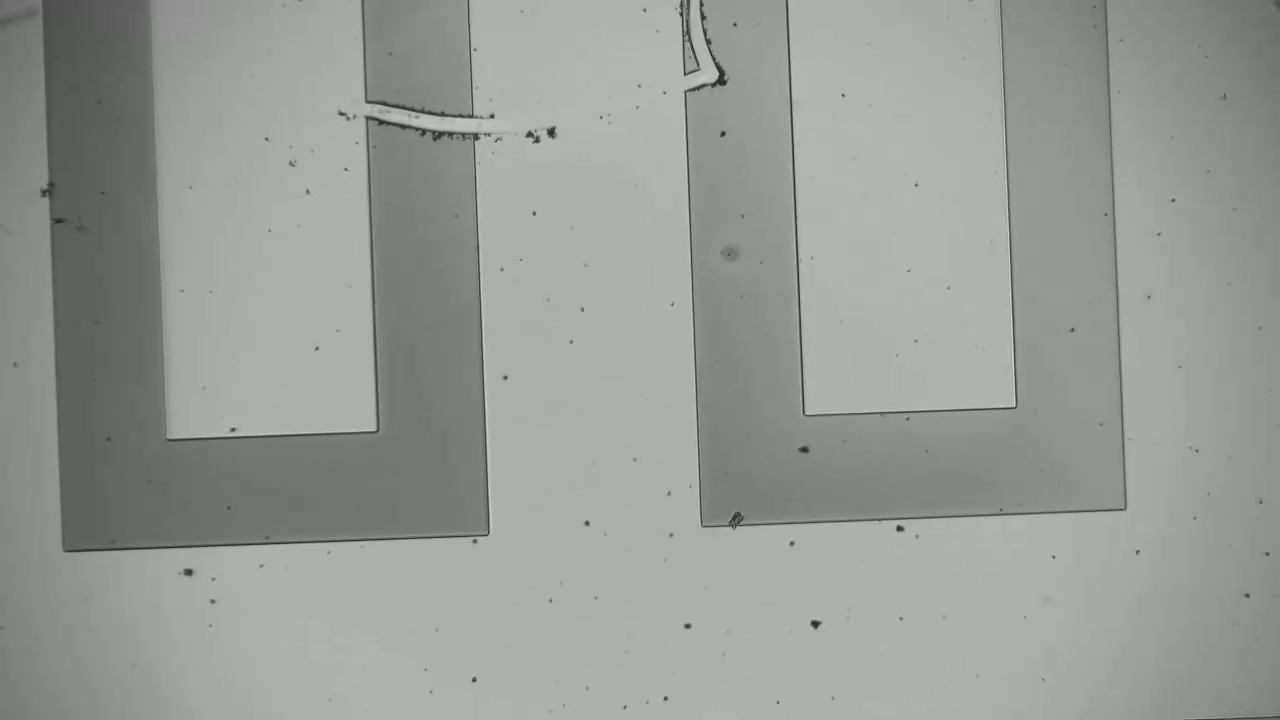Short_circuit: (345, 72, 497, 163)
